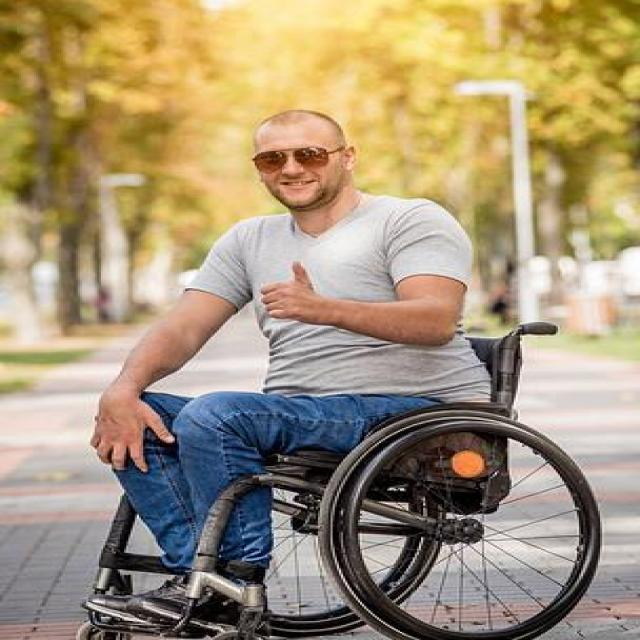wheelchairs: (45, 305, 640, 640)
